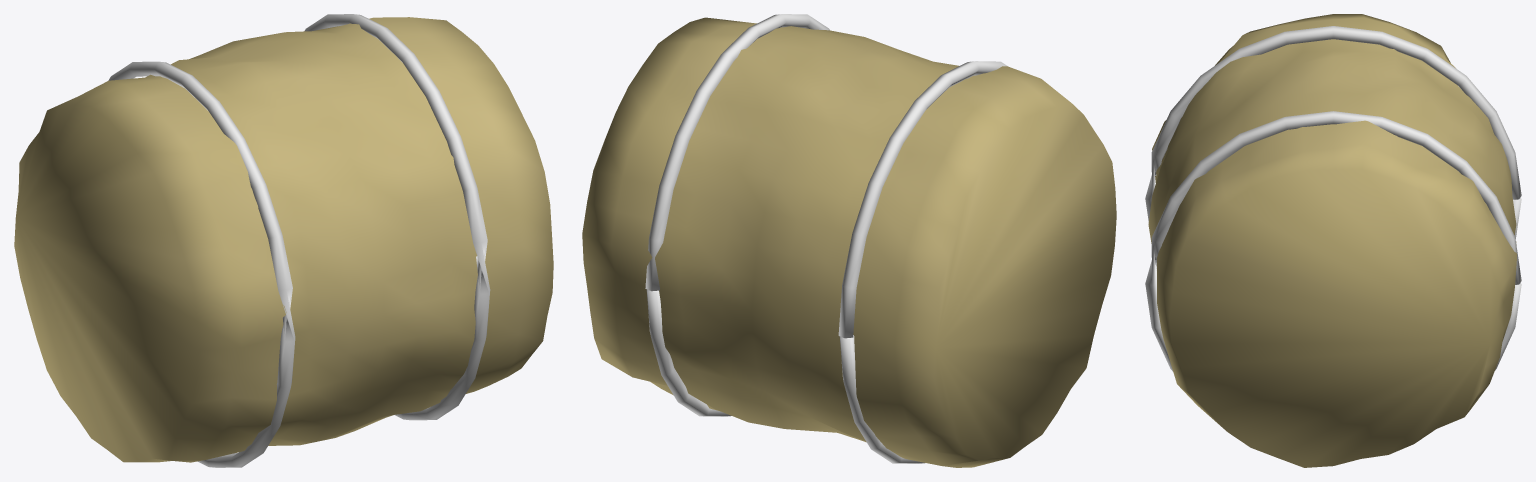
Rendered from HayBale.fbx.
3 views of the same model, side by side, from view 1: azimuth 30°, elevation 25°; view 2: azimuth 150°, elevation 25°; view 3: azimuth 270°, elevation 25° (orthographic). The views are drawn at different scales.
Visible parts, largest first — view 1: HayBody, HayBale_Bark; view 2: HayBody, HayBale_Bark; view 3: HayBody, HayBale_Bark.
Boxes of the visible parts, bbox=[...] form: HayBody: bbox=[14, 17, 553, 462]; HayBale_Bark: bbox=[108, 14, 490, 467]; HayBody: bbox=[582, 17, 1116, 467]; HayBale_Bark: bbox=[645, 14, 1007, 463]; HayBody: bbox=[1148, 14, 1516, 467]; HayBale_Bark: bbox=[1145, 26, 1521, 371].
Size of the model in its own units: 62 by 63.48 by 63.47.
